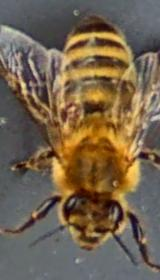varroa_mite: (57, 99, 83, 126)
